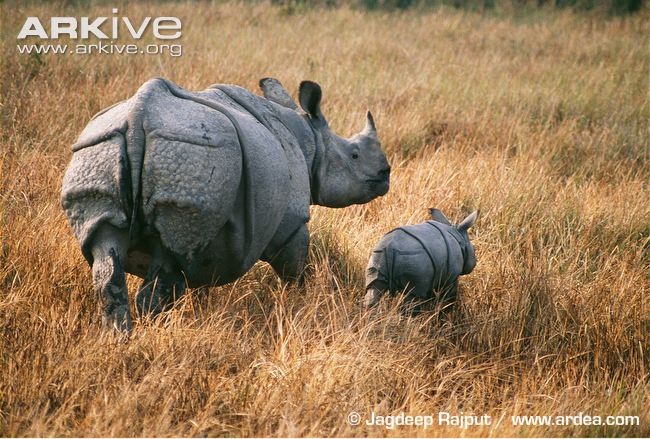rhinoceros: (56, 78, 394, 338), (366, 209, 476, 324)
